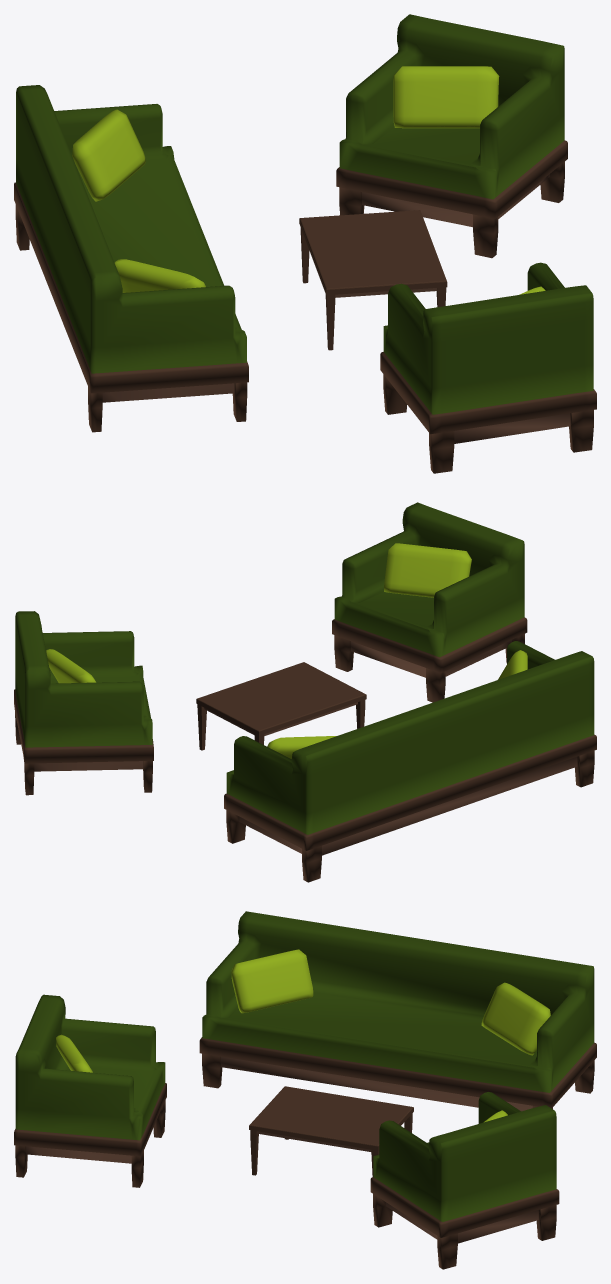
Rendered from seating_area.glb.
3 renders of one model, top to bottom at view 1: azimuth 30°, elevation 25°; view 2: azimuth 150°, elevation 25°; view 3: azimuth 270°, elevation 25°, orthographic. The views are drawn at different scales.
Visible parts, largest first — view 1: matress.004, matress.005, matress.003, table.001; view 2: matress.004, matress.003, matress.005, table.001; view 3: matress.004, matress.005, matress.003, table.001.
Part boxes in pixels (x1,y1,x2,y2): matress.004: (14, 85, 248, 432); matress.005: (336, 14, 567, 258); matress.003: (380, 262, 596, 473); table.001: (299, 210, 447, 350); matress.004: (224, 641, 596, 882); matress.003: (332, 502, 527, 702); matress.005: (14, 611, 153, 795); table.001: (196, 662, 366, 750); matress.004: (199, 911, 596, 1111); matress.005: (370, 1092, 559, 1269); matress.003: (14, 994, 166, 1187); table.001: (249, 1086, 413, 1176).
Size of the model in its own units: 4.17 by 1.03 by 4.35.
